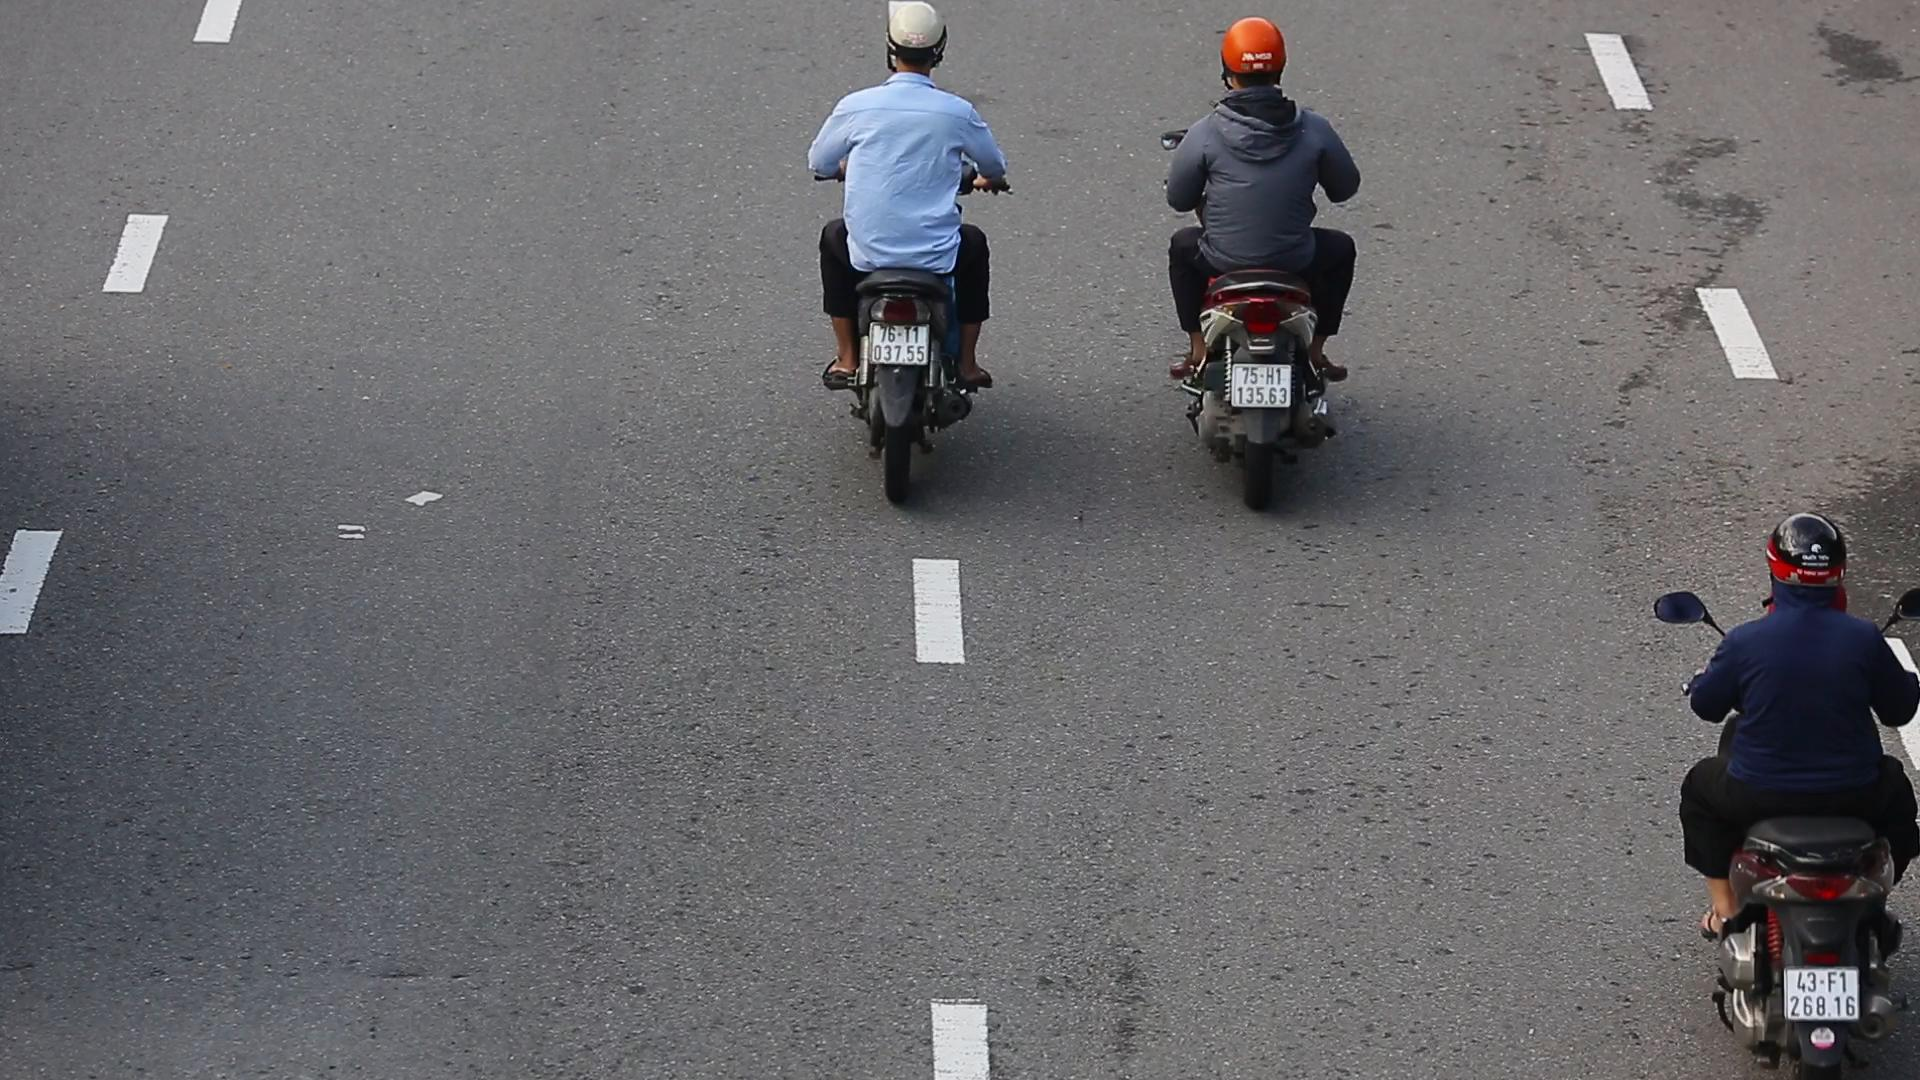motobike: (1660, 506, 1920, 1080), (799, 0, 1021, 533), (1149, 15, 1373, 534)
